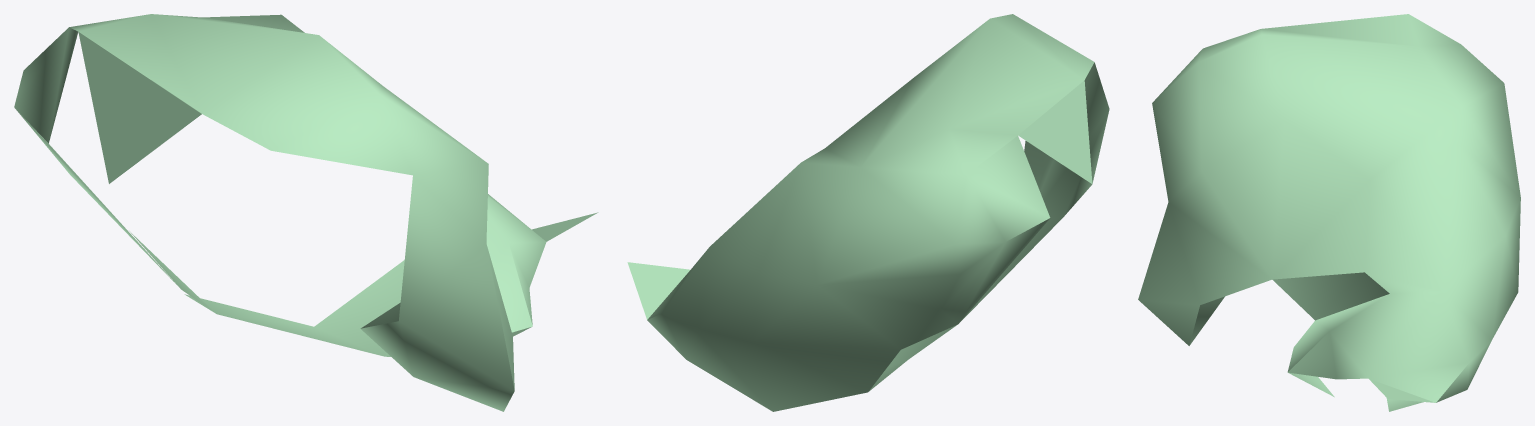
File: spl-312.glb
The picture shows the model from 3 angles, left to right: view 1: azimuth 30°, elevation 25°; view 2: azimuth 150°, elevation 25°; view 3: azimuth 270°, elevation 25°; orthographic projection. The views are drawn at different scales.
Parts seen in each view (by area): view 1: spl-312; view 2: spl-312; view 3: spl-312.
Boxes of the visible parts, box(x1,y1,x2,y2) form: spl-312: box(14, 14, 598, 411); spl-312: box(627, 14, 1109, 411); spl-312: box(1138, 14, 1520, 411).
Size of the model in its own units: 4.38 by 3.34 by 3.76.
